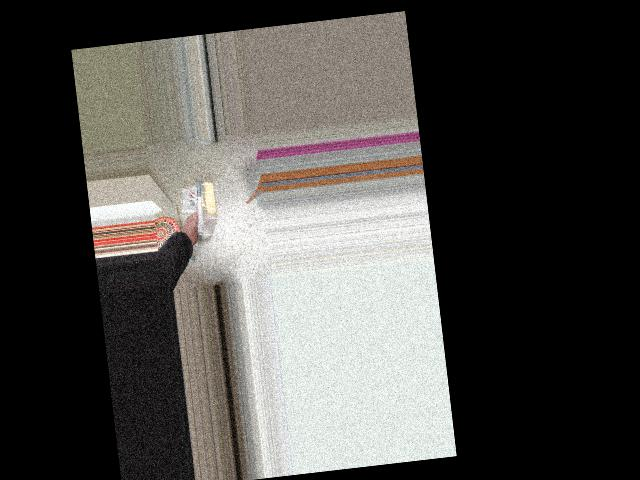cheese: (179, 176, 227, 241)
